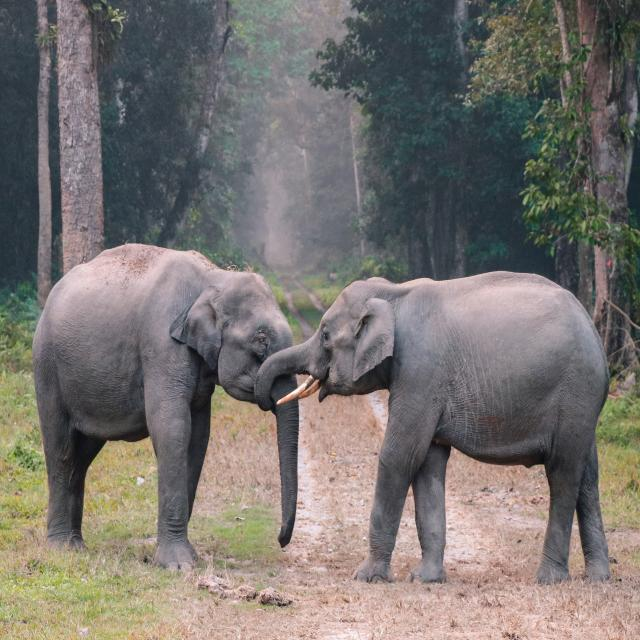animal: (254, 249, 613, 582), (31, 230, 302, 576)
